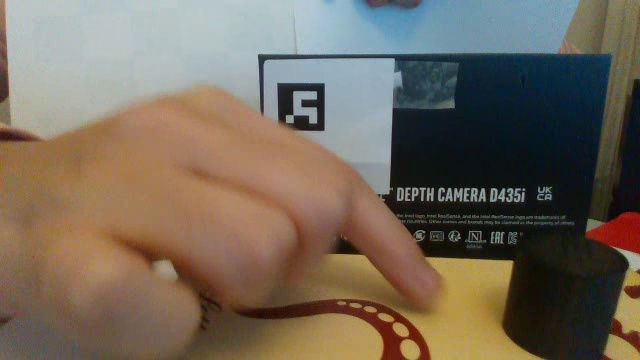cylindre: (499, 220, 632, 360)
